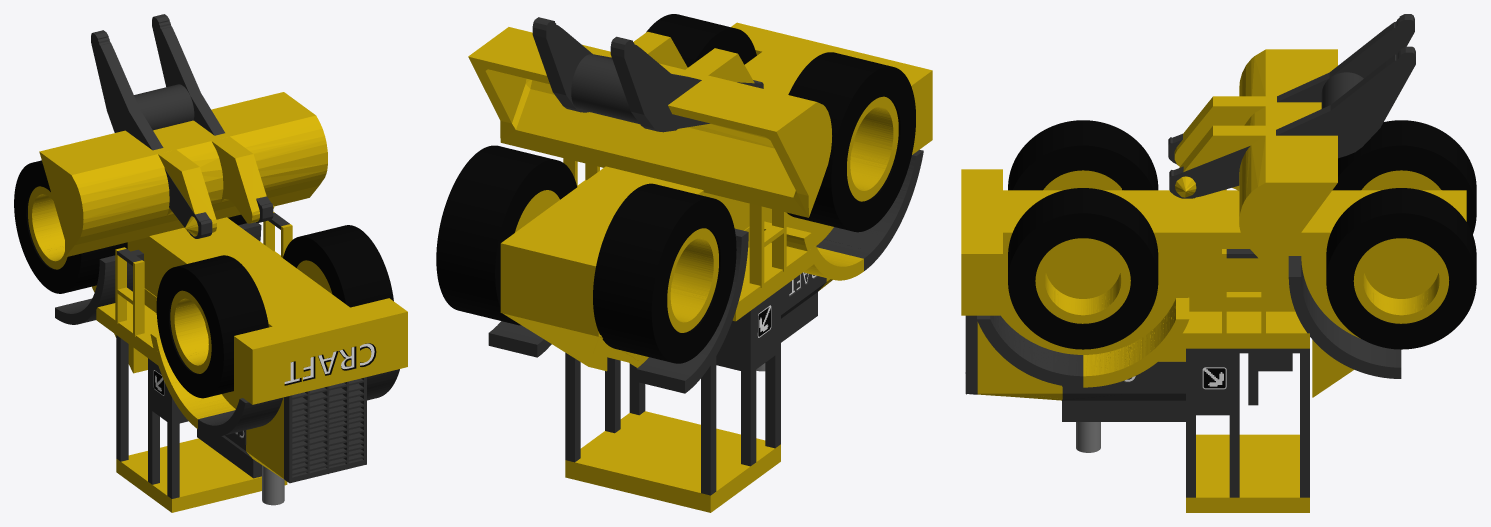
File: loader.obj
3 views of the same model, side by side, from view 1: azimuth 30°, elevation 25°; view 2: azimuth 150°, elevation 25°; view 3: azimuth 270°, elevation 25° (orthographic). The views are drawn at different scales.
Visible parts, largest first — view 1: Object.7, Object.21, Object.20, Object.6, Object.12, Object.19, Object.18, Object.17, Object.9, Object.22, Object.8; view 2: Object.7, Object.21, Object.5, Object.12, Object.18, Object.20, Object.6, Object.19, Object.17, Object.16, Object.8, Object.9; view 3: Object.7, Object.6, Object.5, Object.21, Object.12, Object.19, Object.18, Object.20, Object.16, Object.23, Object.22, Object.13.
Part boxes in pixels (x1,y1,x2,y2): Object.7: [14, 160, 407, 483]; Object.21: [39, 92, 327, 257]; Object.20: [91, 30, 212, 238]; Object.6: [283, 225, 393, 307]; Object.12: [116, 438, 287, 512]; Object.19: [152, 14, 273, 222]; Object.18: [148, 358, 188, 498]; Object.17: [116, 335, 128, 461]; Object.9: [133, 260, 144, 336]; Object.22: [262, 465, 284, 505]; Object.8: [115, 247, 126, 323]; Object.7: [488, 22, 932, 393]; Object.21: [468, 27, 831, 217]; Object.5: [436, 145, 576, 325]; Object.12: [565, 411, 780, 512]; Object.18: [605, 289, 780, 466]; Object.20: [571, 36, 763, 132]; Object.6: [646, 14, 756, 67]; Object.19: [532, 17, 611, 112]; Object.17: [701, 356, 716, 495]; Object.16: [565, 352, 580, 462]; Object.8: [749, 203, 764, 287]; Object.9: [772, 209, 786, 271]; Object.7: [961, 120, 1476, 421]; Object.6: [1008, 188, 1158, 349]; Object.5: [1326, 188, 1476, 349]; Object.21: [1174, 49, 1337, 279]; Object.12: [1186, 434, 1309, 512]; Object.19: [1169, 46, 1415, 198]; Object.18: [1186, 353, 1239, 497]; Object.20: [1168, 14, 1414, 164]; Object.16: [1300, 353, 1309, 497]; Object.23: [1248, 353, 1292, 405]; Object.22: [1076, 422, 1100, 452]; Object.13: [1186, 348, 1309, 353].
Bounding box in the file's own units: 4 × 6.28 × 6.53.
